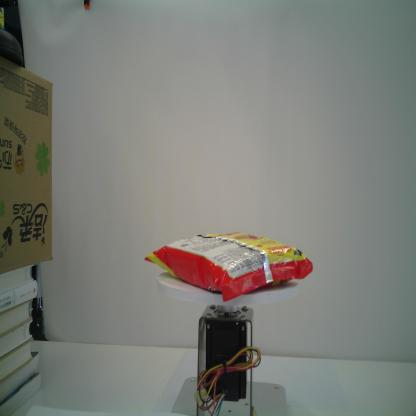Instant Noodles: (144, 232, 313, 300)
